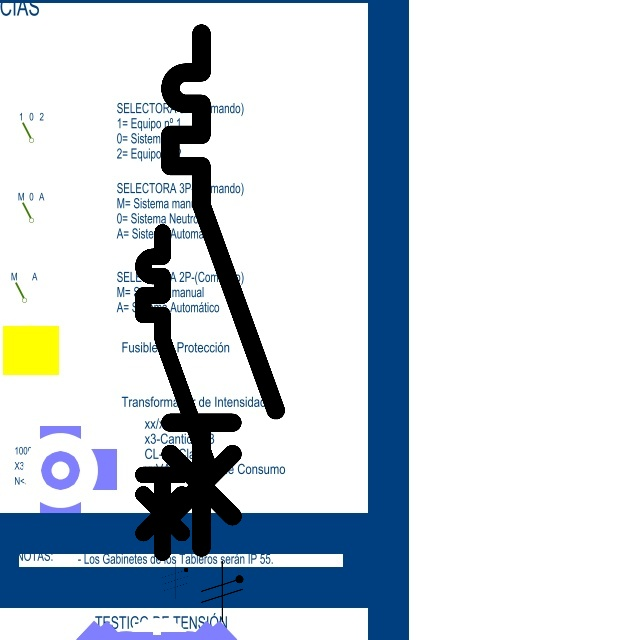interruptor_termomagnetico: (157, 20, 289, 560), (135, 224, 217, 561)
